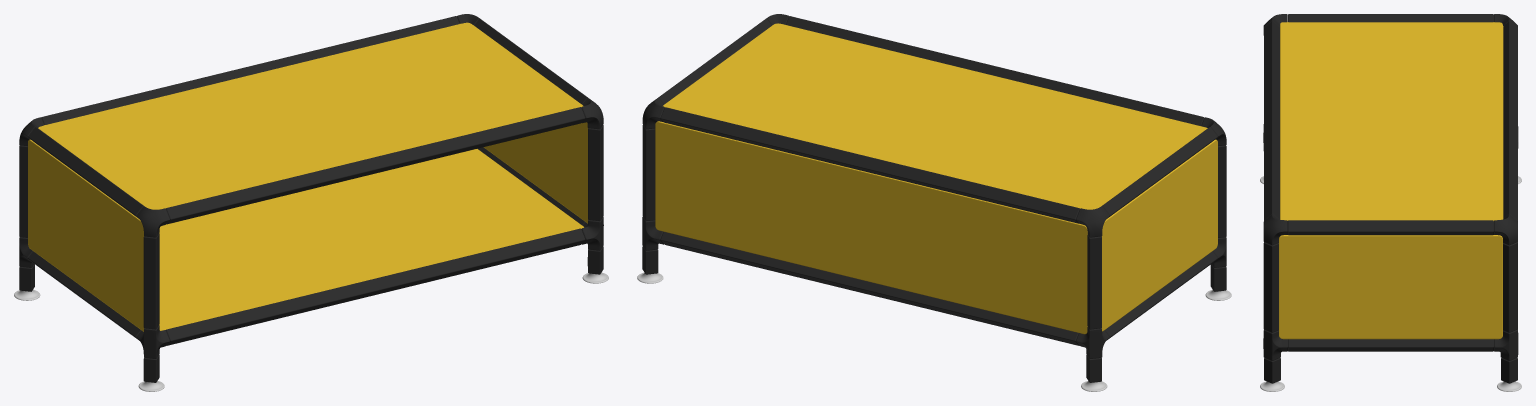
3 renders of one model, left to right at view 1: azimuth 30°, elevation 25°; view 2: azimuth 150°, elevation 25°; view 3: azimuth 270°, elevation 25°, orthographic. The views are drawn at different scales.
Visible parts, largest first — view 1: 729x329x154; view 2: 729x329x154; view 3: 729x329x154.
Part boxes in pixels (x1,y1,x2,y2): 729x329x154: [14, 14, 608, 391]; 729x329x154: [637, 14, 1231, 391]; 729x329x154: [1260, 14, 1521, 391].
Bounding box in the file's own units: 0.8189 × 0.2933 × 0.4182.
